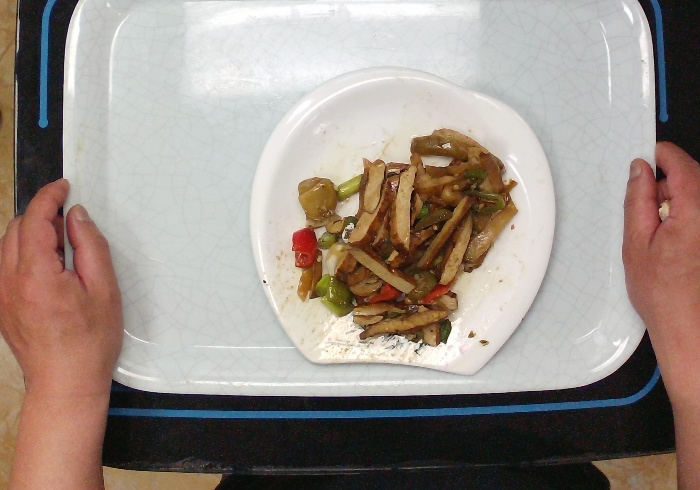JYsf-Mian_Pan: (246, 58, 564, 384)
